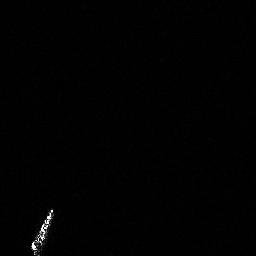ship: (26, 204, 59, 256)
